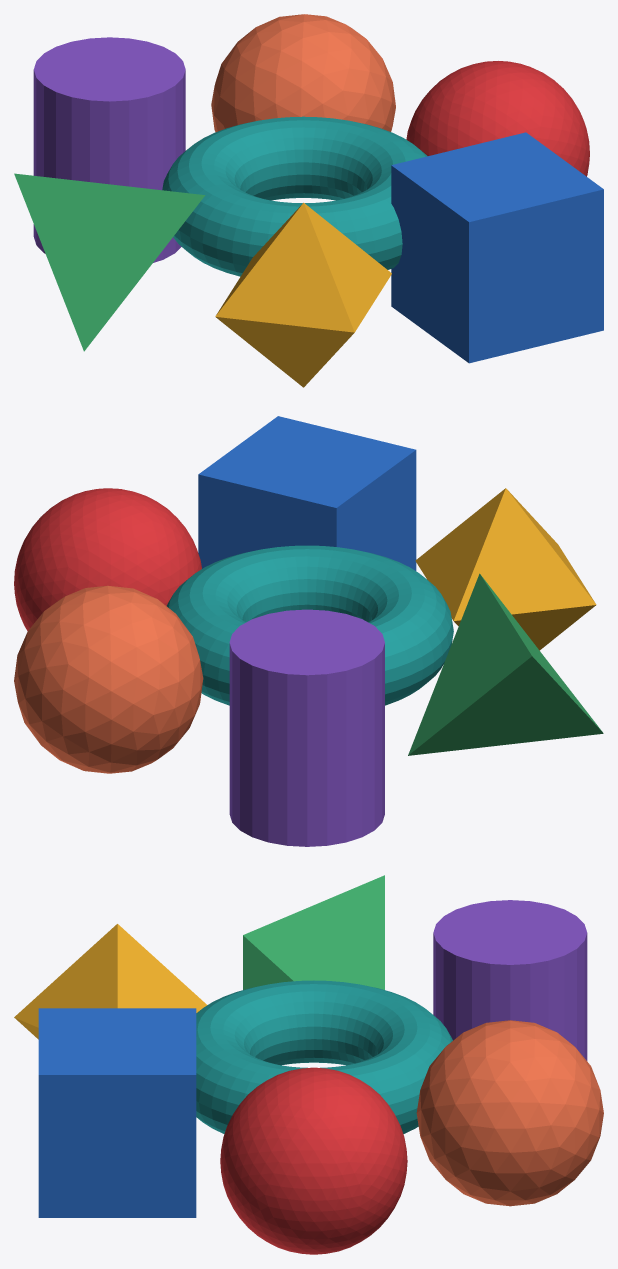
Rendered from solids_scene.obj.
The picture shows the model from 3 angles, top to bottom: view 1: azimuth 30°, elevation 25°; view 2: azimuth 150°, elevation 25°; view 3: azimuth 270°, elevation 25°; orthographic projection. The views are drawn at different scales.
Bounding box in the file's own units: 6.27 × 2.1 × 5.98.
